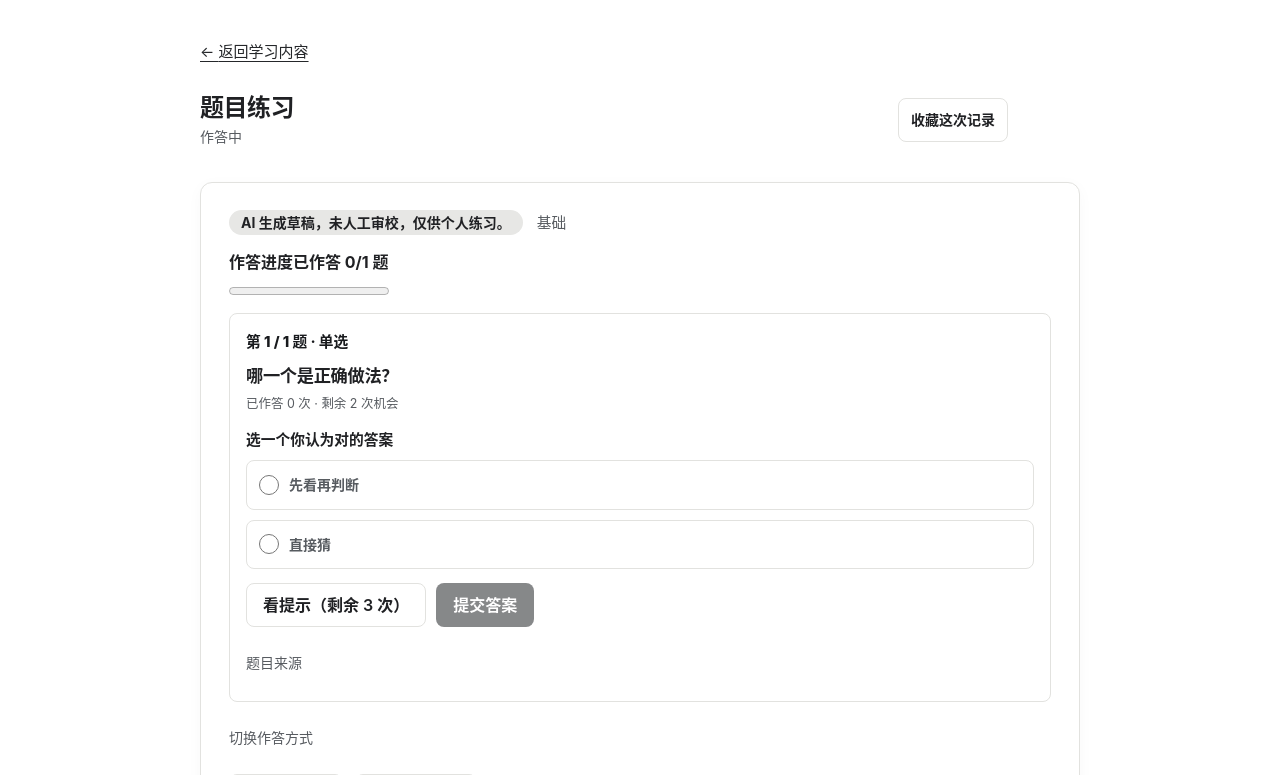
Test: server-driven answers (T17 J2/J3/J6) › sends the chosen option key and renders the verdict from the server
Click the label with test id "choice-B" at [310, 544], box [246,520,1034,569]
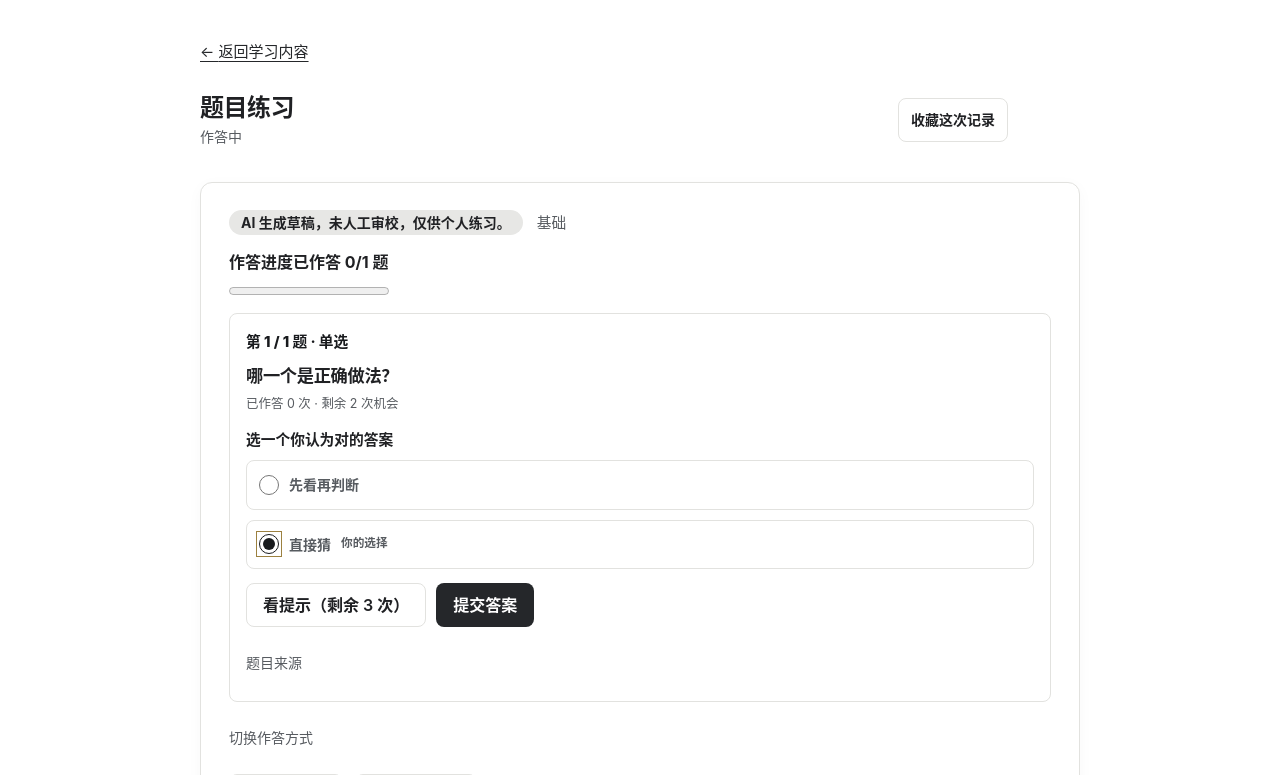
Click the button with test id "quiz-submit" at [485, 605], box [436,583,534,627]
(page scrolled)
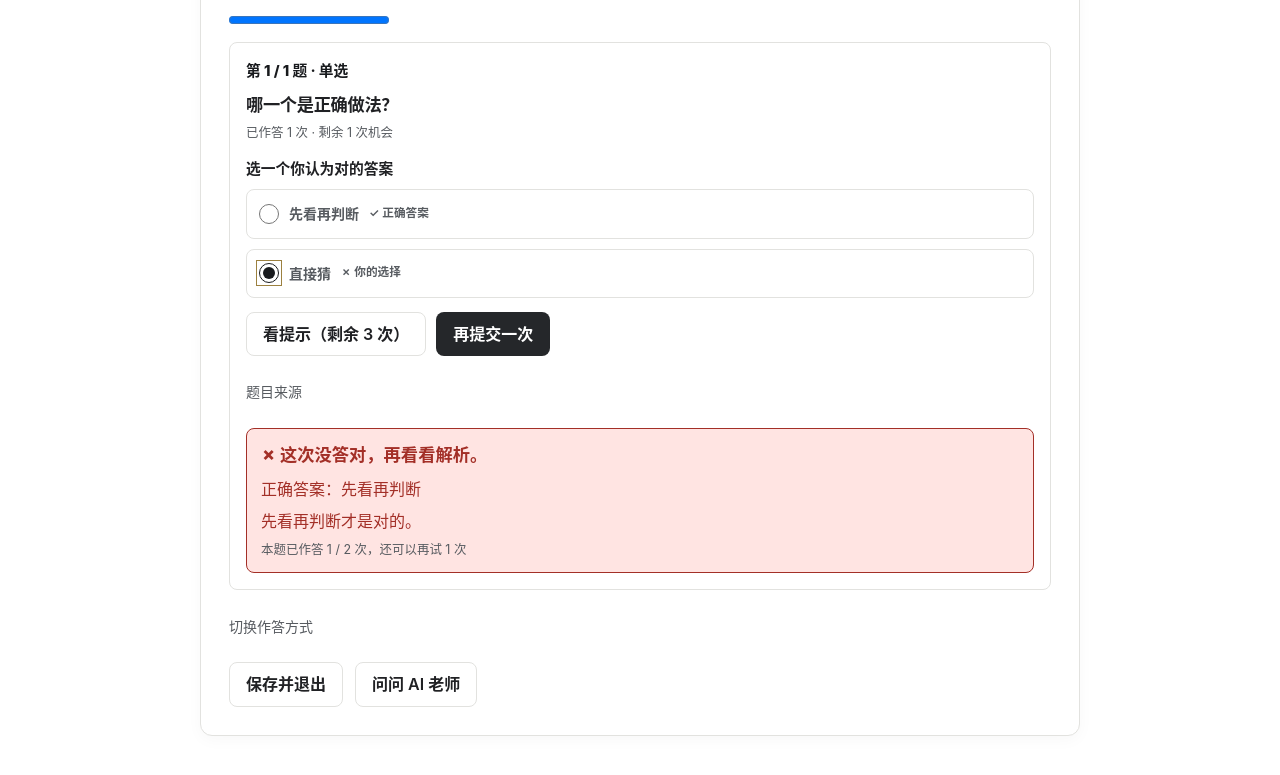
expect the element with test id "quiz-verdict" shows "没答对": met, box [261,444,487,465]
expect the text with test id "quiz-correct-answer" shows "先看再判断": met, box [341,478,421,498]
expect the text with test id "quiz-explanation" shows "先看再判断才是对的": met, box [261,511,421,531]
